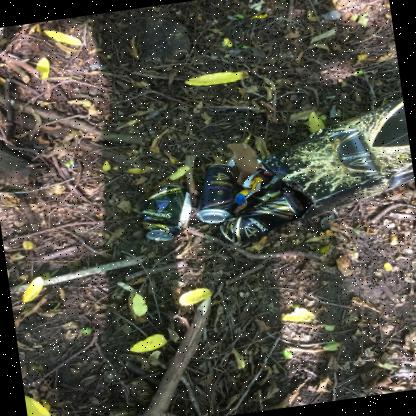Drink can: (220, 192, 303, 243), (141, 184, 191, 240), (196, 163, 235, 223), (255, 175, 299, 202)
Other carton: (227, 97, 414, 224)
Other plastic: (230, 177, 262, 215), (242, 170, 274, 188)
Pop tab: (153, 233, 164, 240)
